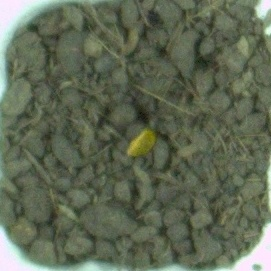pepper seed: (48, 48, 204, 207)
